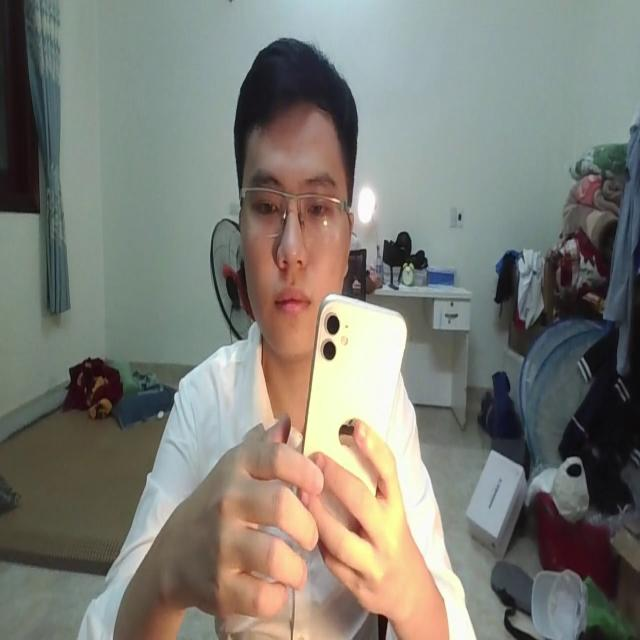phone: (290, 288, 409, 545)
student: (69, 31, 472, 640)
